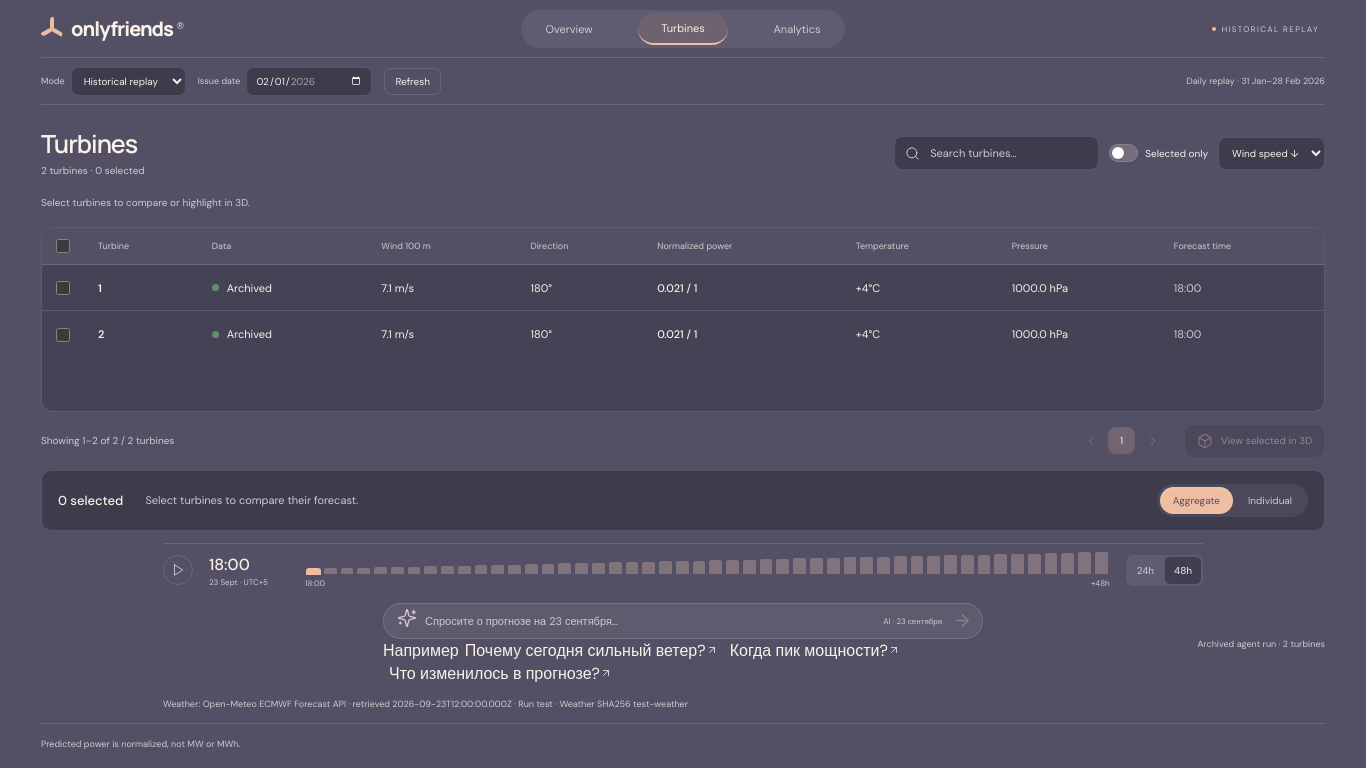
Test: Turbines page › keeps selection while searching, then clears filters and selection
Expected: the heading "Turbines" is shown, [41, 129, 145, 159]
Click the checkbox named "Select Turbine 1" at {"x": 63, "y": 288}, box [56, 281, 70, 295]
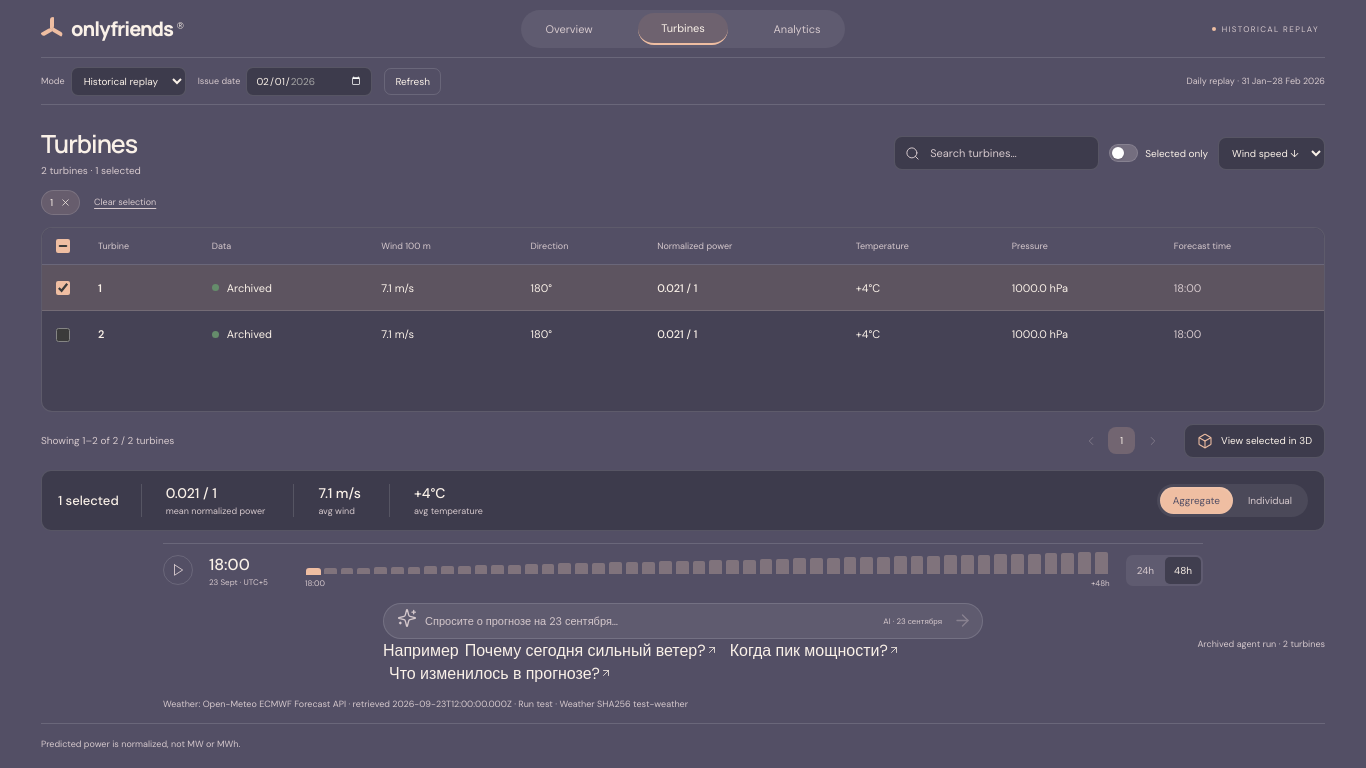
Type "Turbine 2" into the search field labelled "Search turbines" at {"x": 1008, "y": 153}, box [928, 145, 1088, 161]
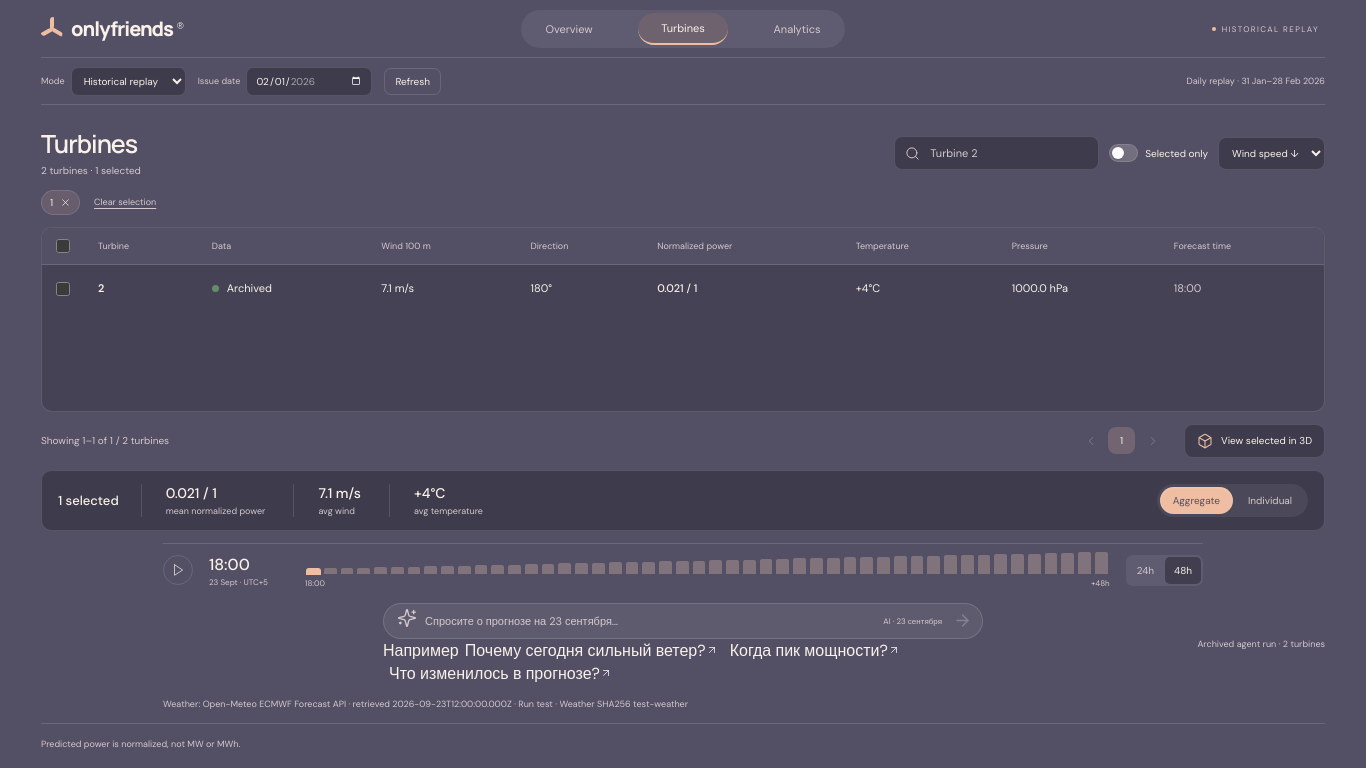
Click the checkbox labelled "Selected only" at {"x": 1124, "y": 153}, box [1109, 144, 1138, 162]
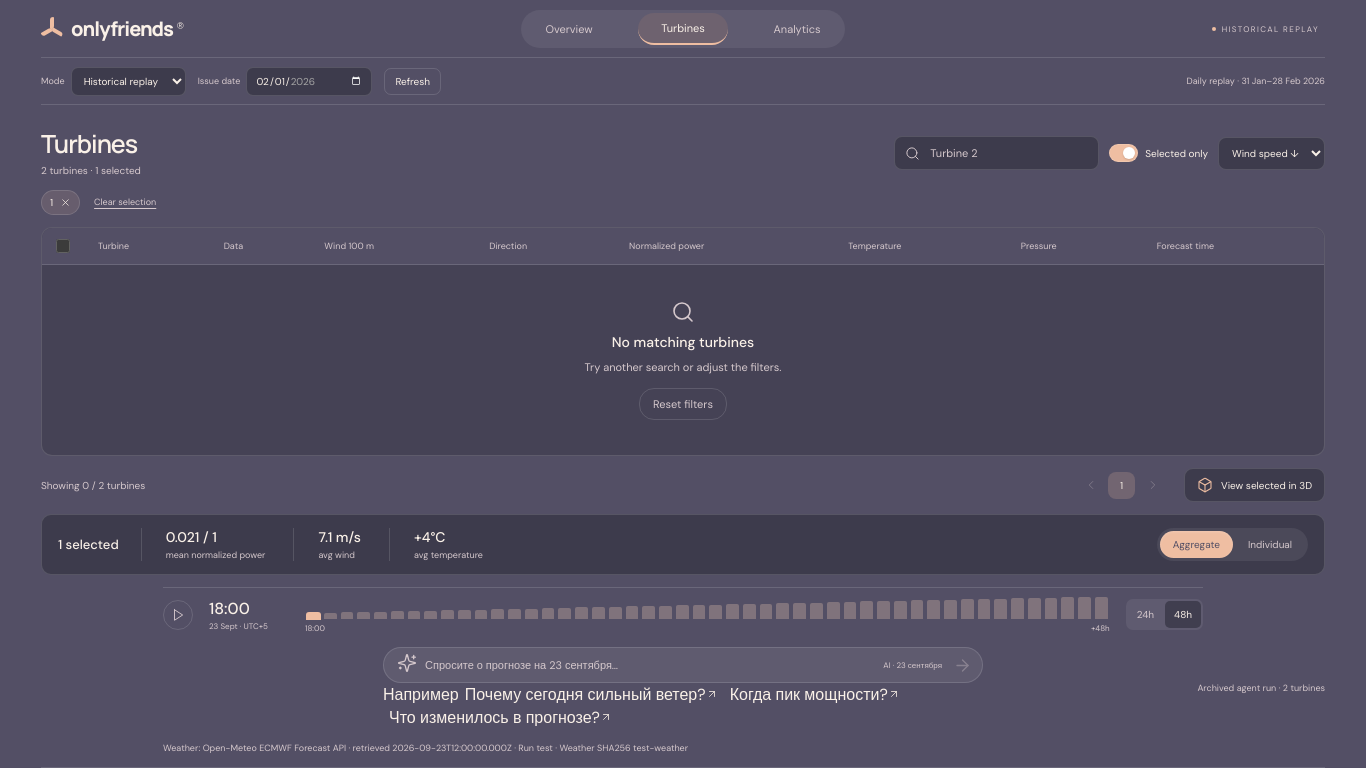
Expected: the button named "Remove 1 from selection" is shown, [41, 190, 80, 214]
Now the text "No matching turbines" is shown, box [612, 333, 754, 351]
Click the button "Reset filters" at {"x": 683, "y": 404}, box [639, 388, 727, 420]
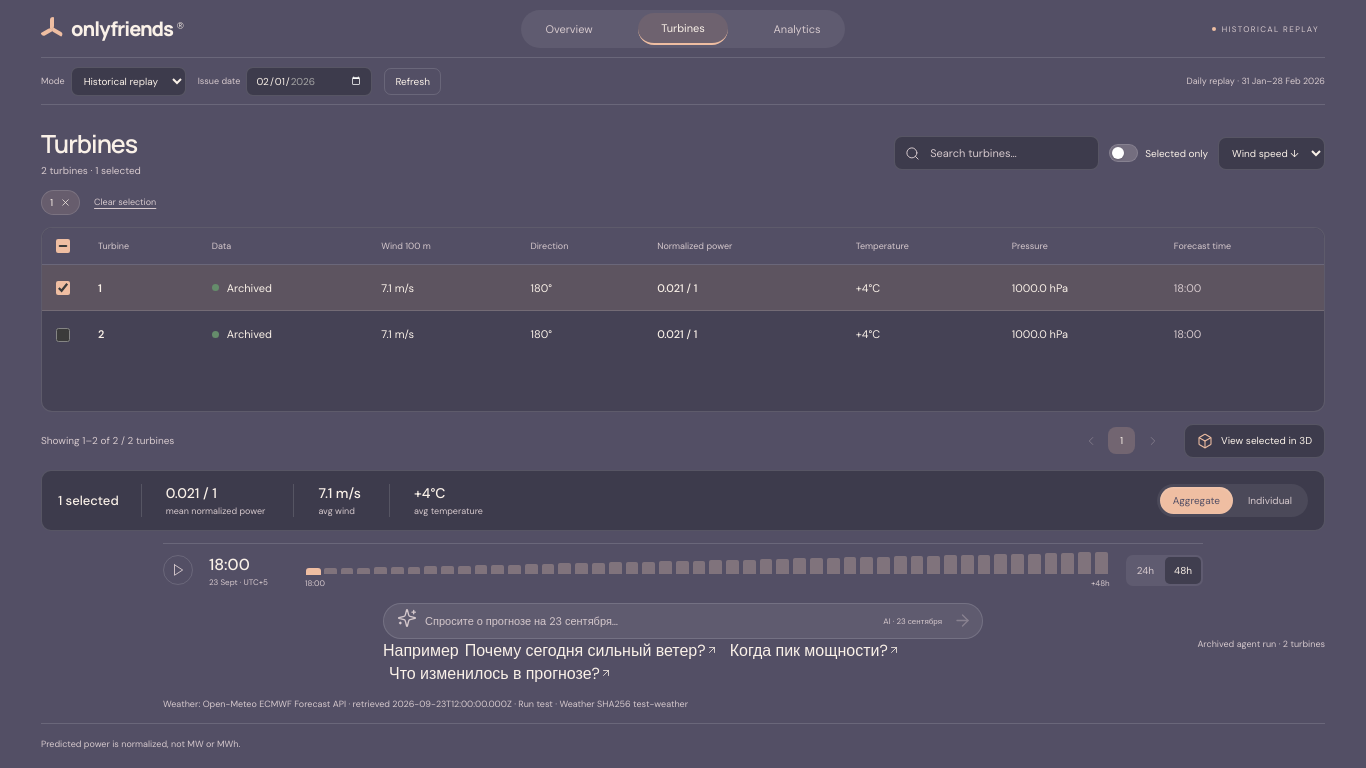
Now the number of rows is 3, box [42, 228, 1324, 265]; [42, 265, 1324, 311]; [42, 311, 1324, 357]
Now the checkbox named "Select Turbine 1" is checked, box [56, 281, 70, 295]
Click the button named "Remove 1 from selection" at {"x": 61, "y": 202}, box [41, 190, 80, 214]
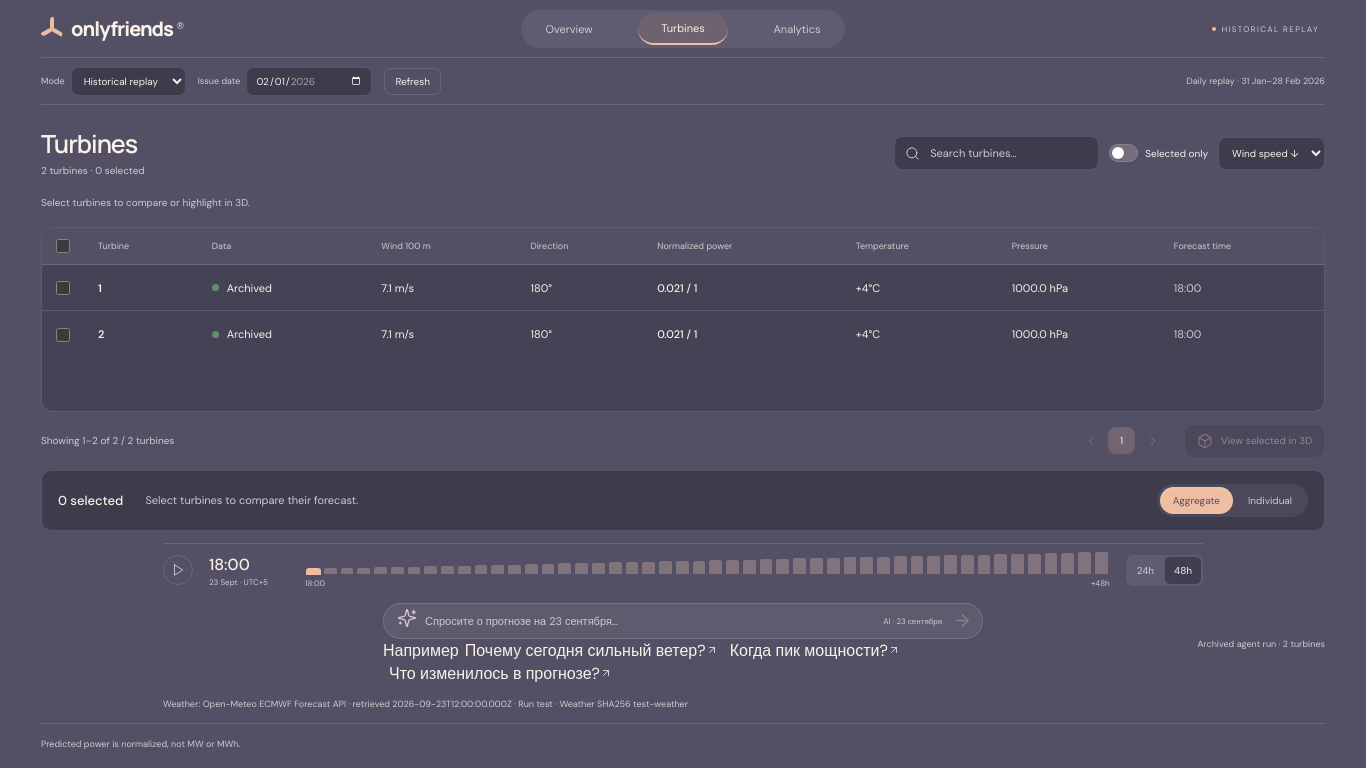
Now the checkbox named "Select Turbine 1" is not checked, box [56, 281, 70, 295]
